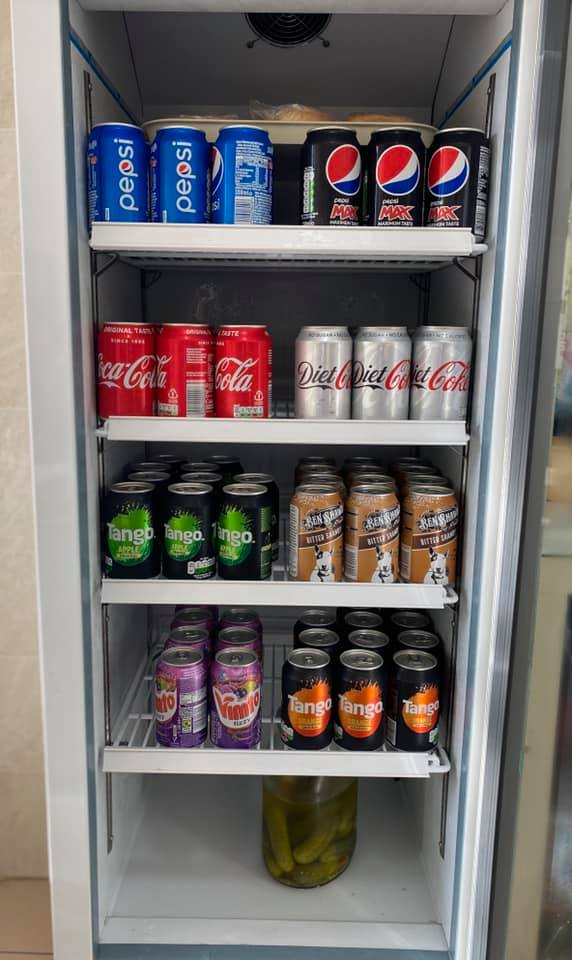benshaws: (303, 508, 344, 528), (419, 510, 459, 528), (368, 508, 400, 529)
dietcoke: (412, 359, 470, 393)
pepsi: (373, 144, 421, 197), (427, 145, 470, 198), (324, 143, 361, 196), (119, 160, 134, 174), (177, 163, 189, 176)
tango: (102, 519, 156, 545), (338, 693, 384, 720), (286, 691, 332, 715), (215, 520, 252, 547), (163, 522, 201, 544), (402, 696, 438, 715)
vimto: (214, 688, 259, 720)
